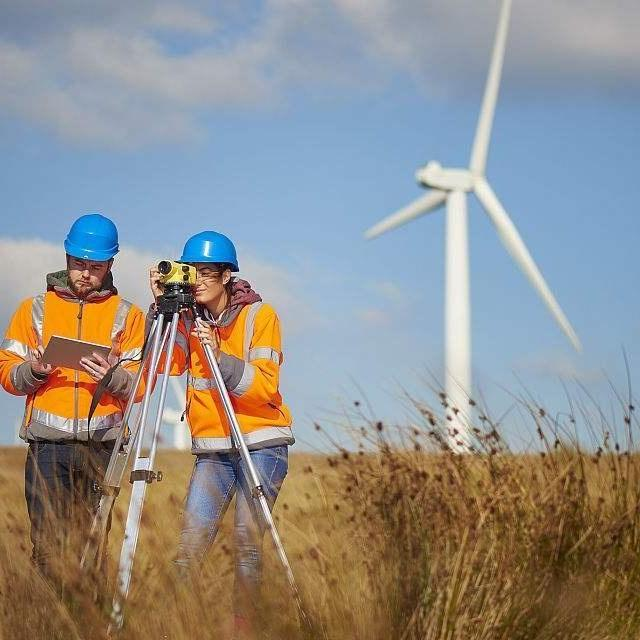Hardhat: (175, 230, 239, 271), (64, 214, 121, 260)
NO-Mask: (194, 281, 222, 303), (71, 277, 101, 294)
Person: (0, 215, 152, 592), (156, 228, 295, 612)
Safety Vest: (2, 291, 149, 430), (175, 300, 298, 452)
